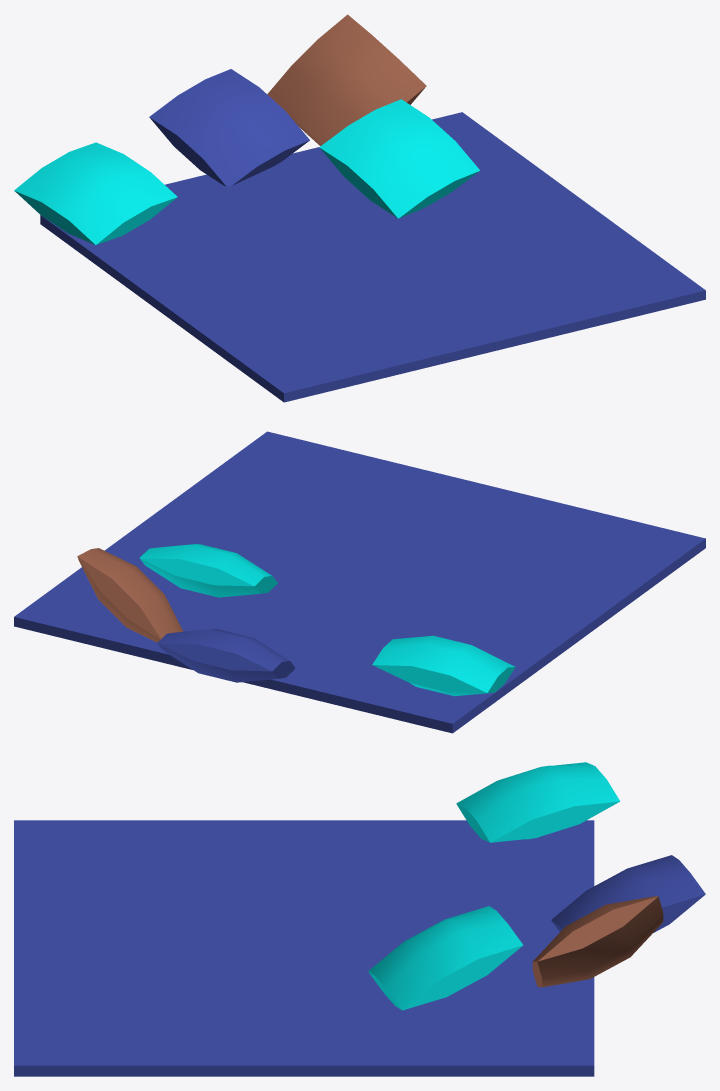
File: bed_Lv1.fbx
3 views of the same model, one above another, from view 1: azimuth 30°, elevation 25°; view 2: azimuth 150°, elevation 25°; view 3: azimuth 270°, elevation 25° (orthographic). The views are drawn at different scales.
Visible parts, largest first — view 1: pPlane1, pCube6, pCube5, pCube4, pCube7; view 2: pPlane1, pCube7, pCube4, pCube5, pCube6; view 3: pPlane1, pCube6, pCube7, pCube4, pCube5.
Part boxes in pixels (x1,y1,x2,y2): pPlane1: (40,112,705,402); pCube6: (319,99,480,218); pCube5: (149,69,309,186); pCube4: (267,14,426,145); pCube7: (14,142,177,244); pPlane1: (14,431,705,733); pCube7: (372,635,515,696); pCube4: (77,548,183,642); pCube5: (157,629,295,682); pCube6: (139,543,277,597); pPlane1: (14,820,594,1076); pCube6: (368,906,523,1010); pCube7: (456,762,620,842); pCube4: (532,896,663,987); pCube5: (551,855,705,932).
Bounding box in the file's own units: 193 × 44.42 × 215.
